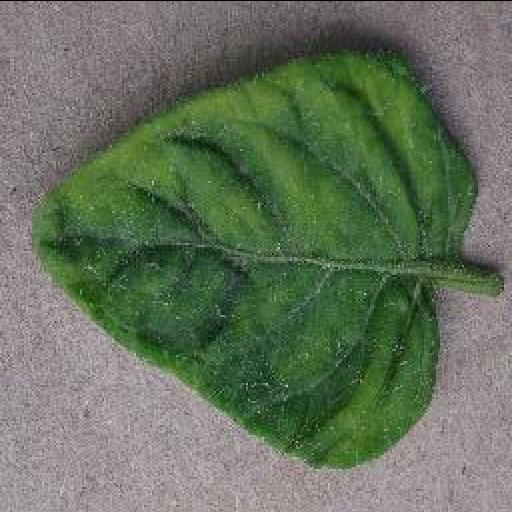disease_tomato: (24, 46, 482, 472)
